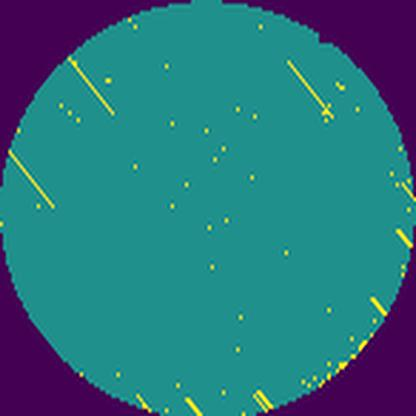Scratch: (283, 58, 338, 128), (66, 55, 122, 123), (9, 147, 61, 213)
